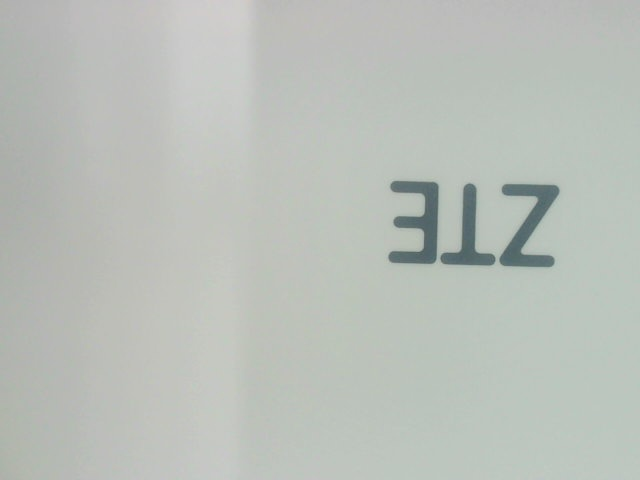AN_ZTELarge: (367, 169, 582, 280)
